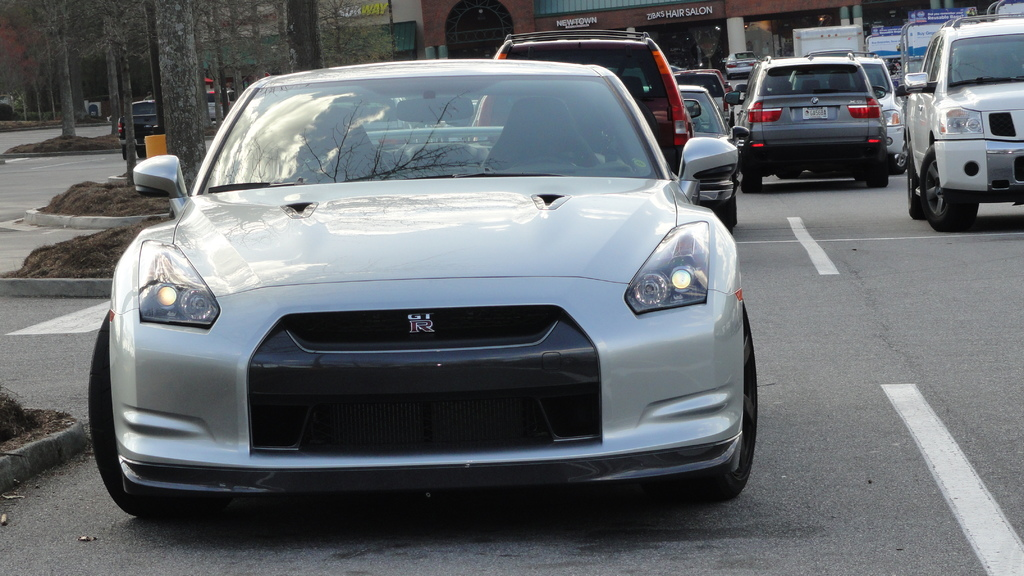person: (295, 88, 417, 182)
